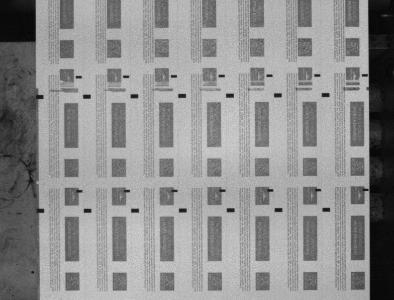qblock: (226, 93, 234, 98), (178, 93, 186, 98), (83, 94, 91, 99), (84, 208, 92, 213), (37, 208, 45, 213), (131, 208, 139, 213), (323, 207, 331, 212), (131, 94, 139, 98), (274, 93, 282, 97), (36, 95, 44, 99), (227, 208, 235, 212), (275, 208, 283, 212), (322, 93, 330, 97), (179, 208, 187, 212)
smallqblock: (76, 189, 83, 193), (171, 75, 178, 78), (123, 75, 130, 78), (219, 74, 225, 77), (267, 74, 273, 77), (76, 76, 82, 79), (315, 74, 321, 77), (124, 190, 130, 193), (172, 189, 178, 192), (220, 189, 226, 192), (268, 189, 274, 192), (316, 188, 322, 191), (363, 188, 369, 191), (362, 74, 369, 76)
